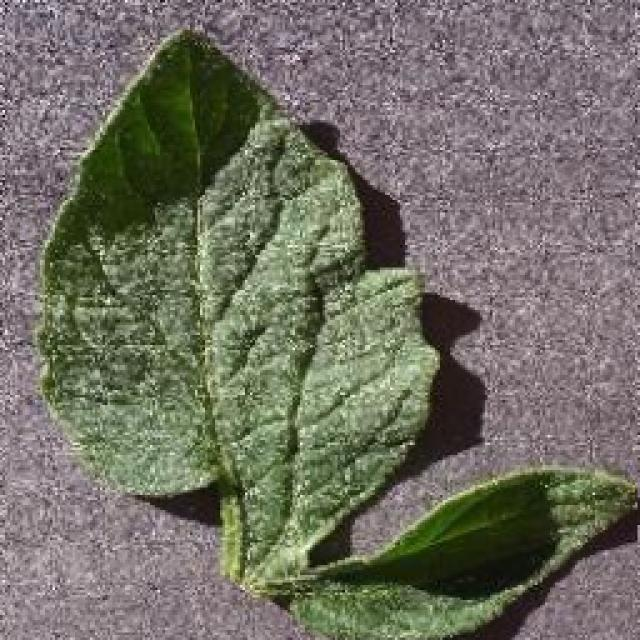Healthy: (5, 2, 637, 640)
